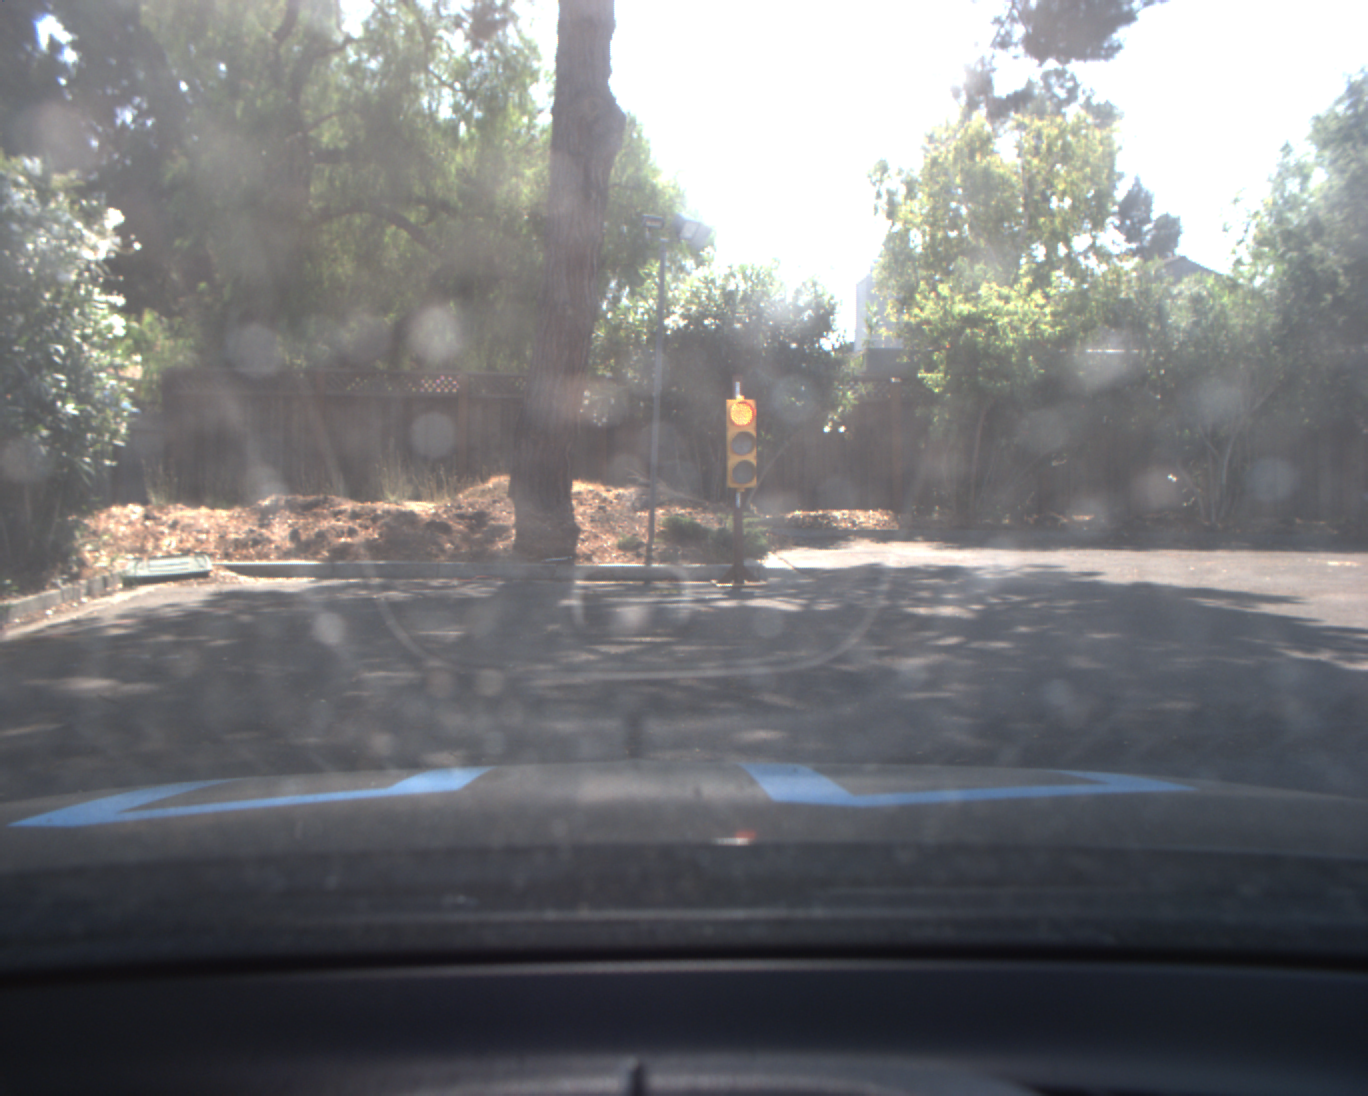red: (725, 396, 760, 491)
